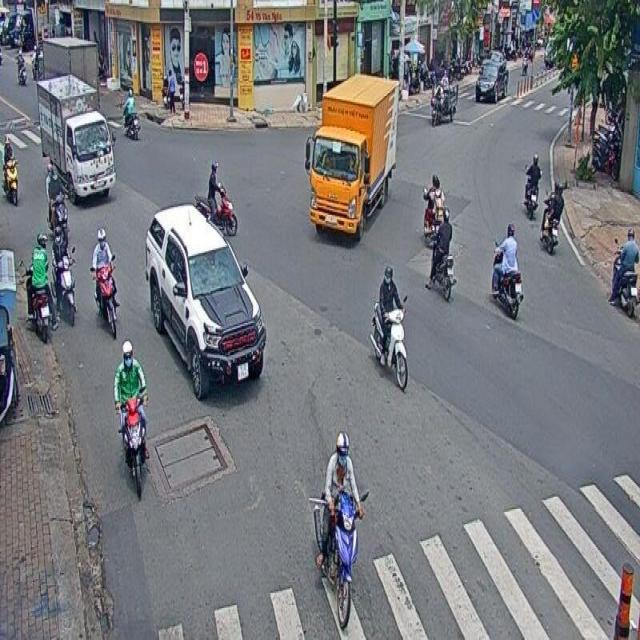car: (144, 207, 266, 399)
motorcycle: (311, 432, 366, 632), (111, 338, 149, 504), (367, 259, 412, 392), (89, 224, 120, 338), (194, 158, 237, 238), (491, 216, 519, 324), (49, 226, 78, 329), (609, 225, 640, 318), (25, 228, 50, 339), (426, 204, 454, 303), (539, 177, 566, 259), (44, 163, 68, 247), (522, 150, 542, 222), (429, 79, 458, 128), (0, 134, 19, 203), (122, 85, 139, 142)
truck: (306, 72, 398, 244), (35, 74, 116, 202)
